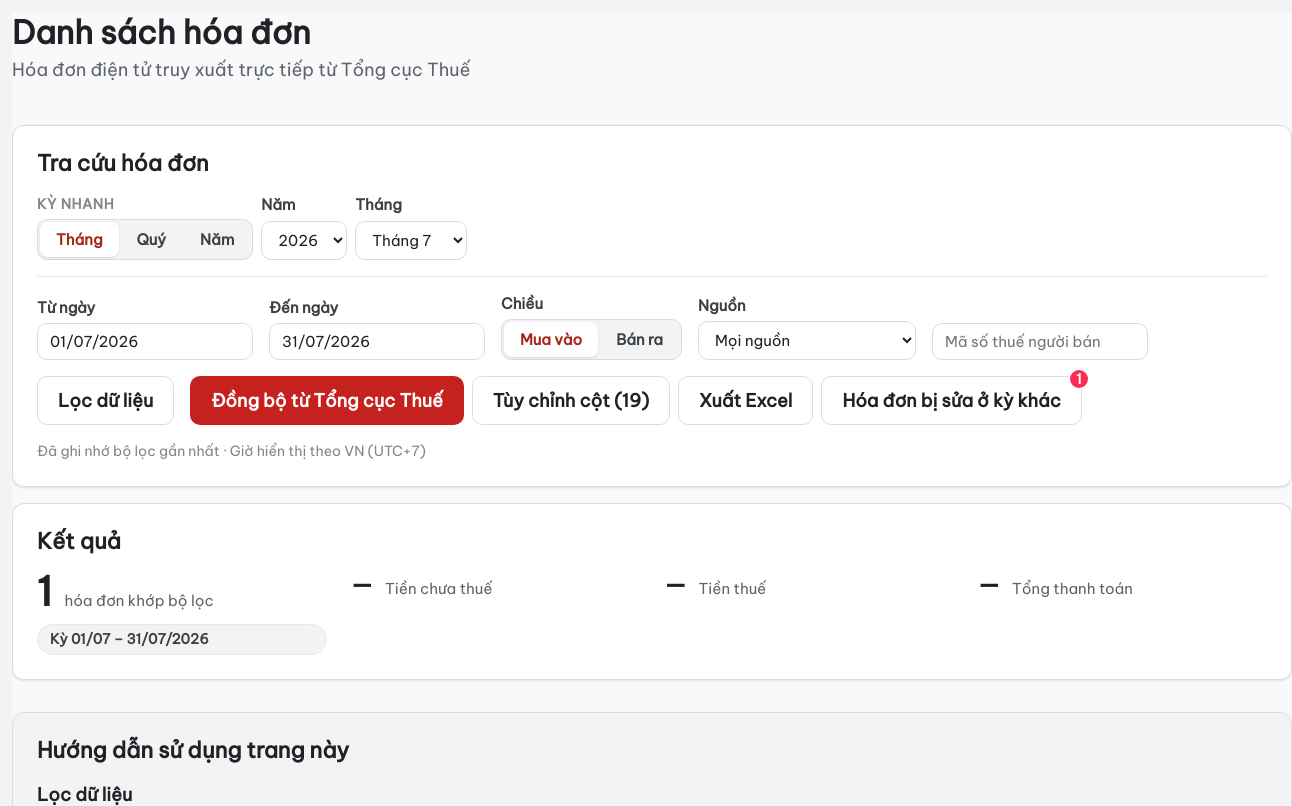
U-K4 — nút Lọc dữ liệu (đọc nhẹ) + Đồng bộ từ Thuế (kéo nặng) (yêu cầu 3) › bấm 'Đồng bộ từ Thuế' → backfill; hoàn thành → KHÔNG tự gọi xuất /exports
Expected: the text "hóa đơn khớp bộ lọc" is shown, left=64, top=590, right=214, bottom=612
Click the button "Đồng bộ từ Tổng cục Thuế".
click(327, 400)  # box left=190, top=376, right=464, bottom=425
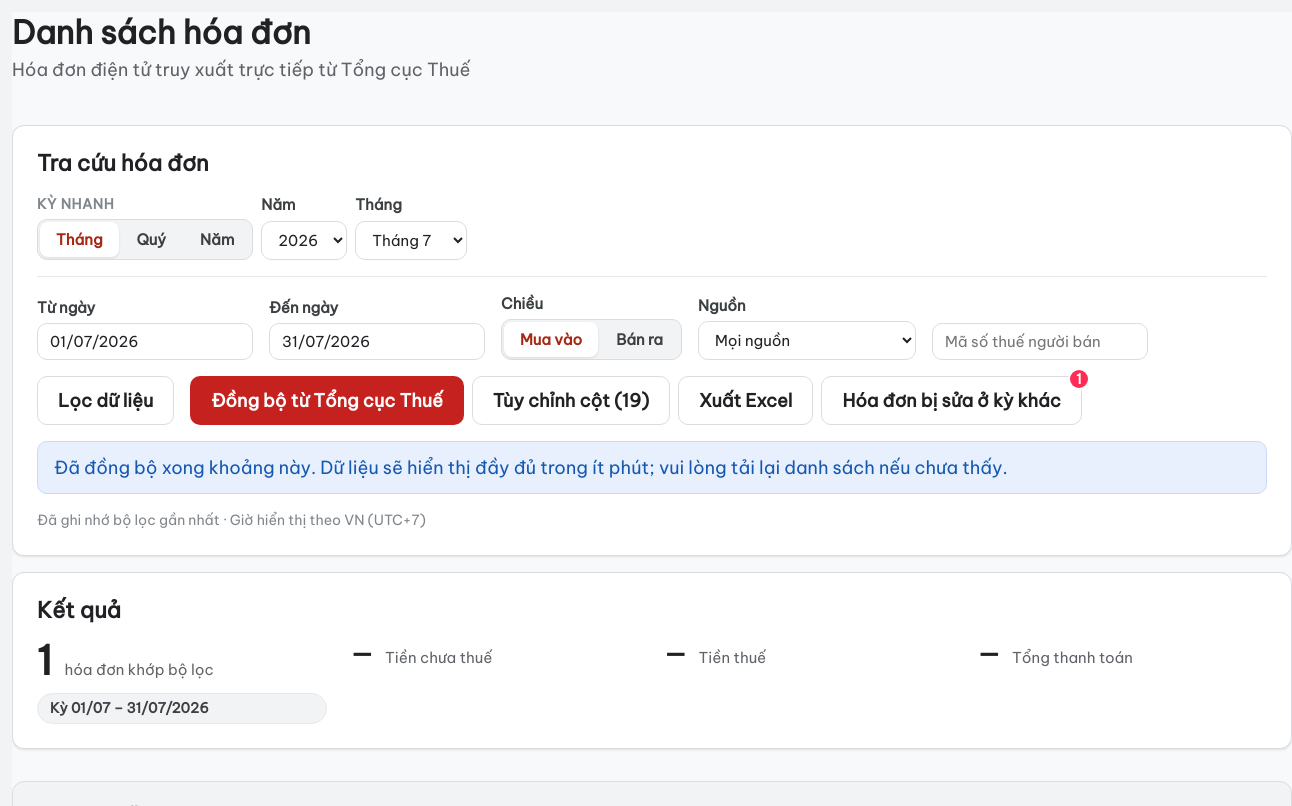
Expected: the text "Đã đồng bộ xong" is shown, left=54, top=456, right=1008, bottom=479
